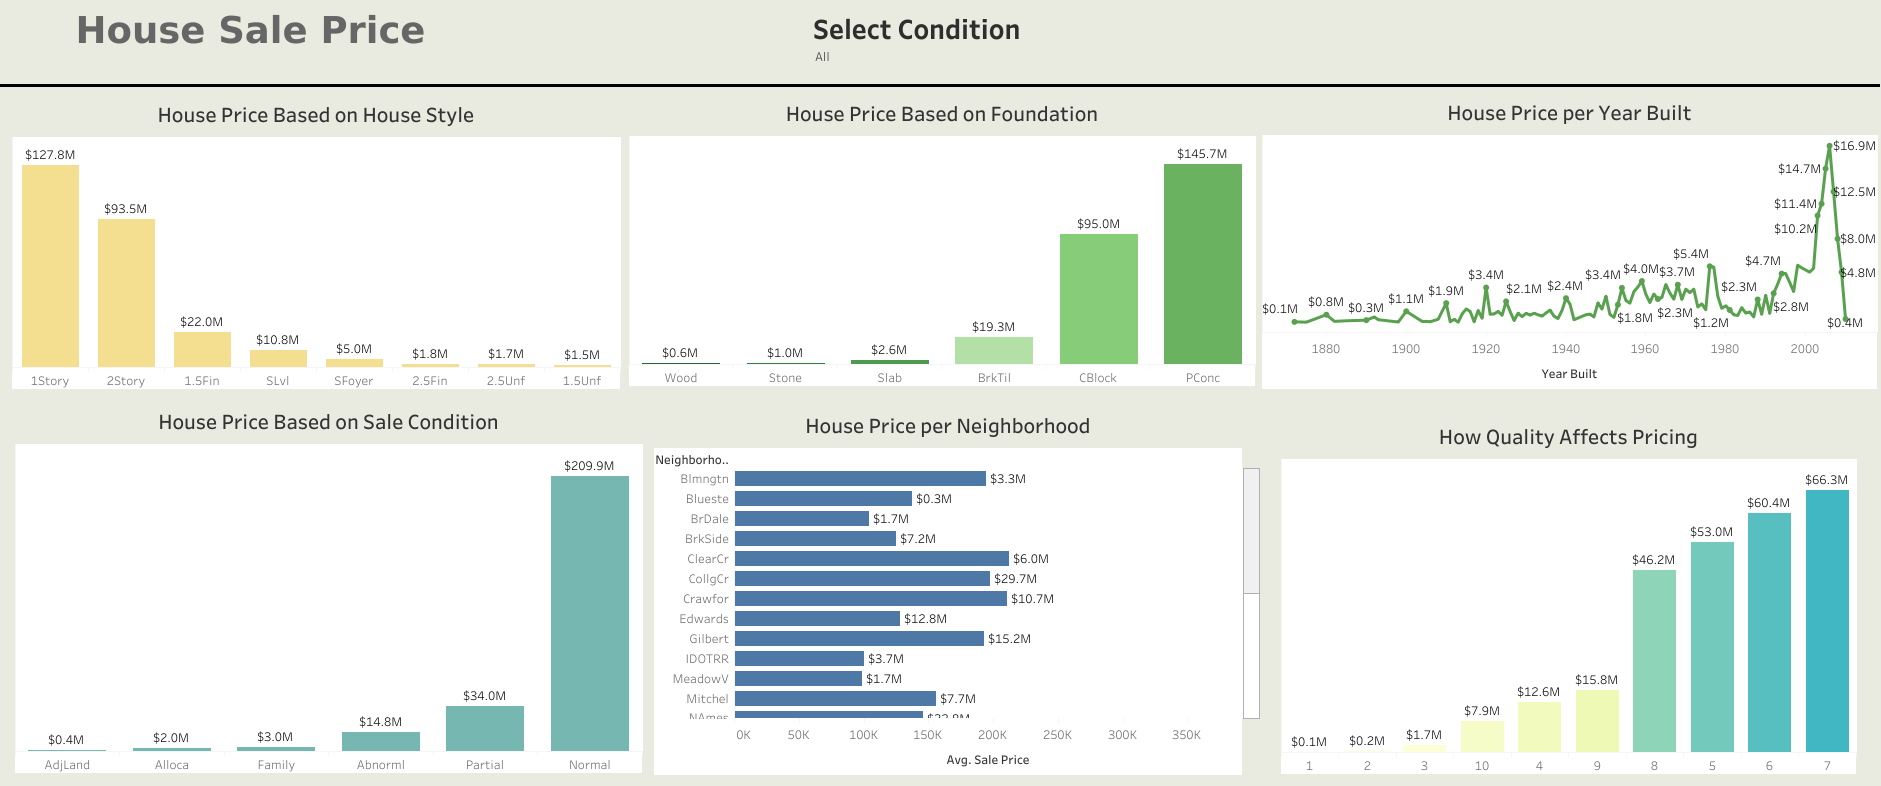

The dashboard page shown, as its layout file describes it:
{"tool":"tableau","page":{"name":"Dashboard 1","canvas":[1000,1000],"units":"permille","ordinal":0},"visuals":[{"type":"text","box":[38.6,10.2,270.3,54.6]},{"type":"filter","title":"House Price Based on Sale Condition","param":"[federated.0hppb3l08pwyar1aexf3b1uits10].[none:SaleCondition:nk]","box":[431.9,10.4,229.8,80.6]},{"type":"blank","box":[0,106.8,998.8,3.4]},{"type":"worksheet","title":"House Price per Year Built","mark":"Automatic","rows":["SalePrice"],"cols":["YearBuilt"],"box":[670.6,117,326.5,377.3]},{"type":"worksheet","title":"House Price Based on Foundation","mark":"Automatic","rows":["SalePrice"],"cols":["Foundation"],"box":[334.1,118.2,332.9,372.7]},{"type":"worksheet","title":"House Price Based on House Style","mark":"Automatic","rows":["SalePrice"],"cols":["HouseStyle"],"box":[6.4,119.3,323,375]},{"type":"worksheet","title":"House Price Based on Sale Condition","mark":"Automatic","rows":["SalePrice"],"cols":["SaleCondition"],"box":[8.2,509.1,332.9,472.7]},{"type":"worksheet","title":"House Price per Neighborhood","mark":"Automatic","rows":["Neighborhood"],"cols":["SalePrice"],"box":[347.6,514.8,321.8,470.4]},{"type":"worksheet","title":"How Quality Affects Pricing","mark":"Automatic","rows":["SalePrice"],"cols":["Overall Qual (bin)"],"box":[680.5,528.4,305.4,455.7]}]}

Visuals, with their boxes on the dashboard's canvas, which has no fixed pixel size, in thousandths of its width and height (x1, y1, x2, y2). These are canvas units, not pixel positions in the 1881x786 screenshot, which may show the page scaled, cropped or inside an application window:
text: Rect(39, 10, 309, 65)
"House Price Based on Sale Condition" filter: Rect(432, 10, 662, 91)
blank: Rect(0, 107, 999, 110)
"House Price per Year Built" worksheet: Rect(671, 117, 997, 494)
"House Price Based on Foundation" worksheet: Rect(334, 118, 667, 491)
"House Price Based on House Style" worksheet: Rect(6, 119, 329, 494)
"House Price Based on Sale Condition" worksheet: Rect(8, 509, 341, 982)
"House Price per Neighborhood" worksheet: Rect(348, 515, 669, 985)
"How Quality Affects Pricing" worksheet: Rect(680, 528, 986, 984)
